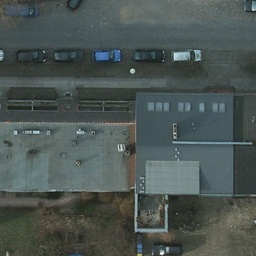car: (15, 47, 47, 65), (52, 48, 83, 65), (135, 48, 166, 64), (89, 49, 122, 64), (173, 47, 203, 63), (149, 243, 183, 254), (68, 0, 93, 9), (0, 49, 7, 61), (0, 3, 2, 18)
van: (8, 0, 42, 27)
